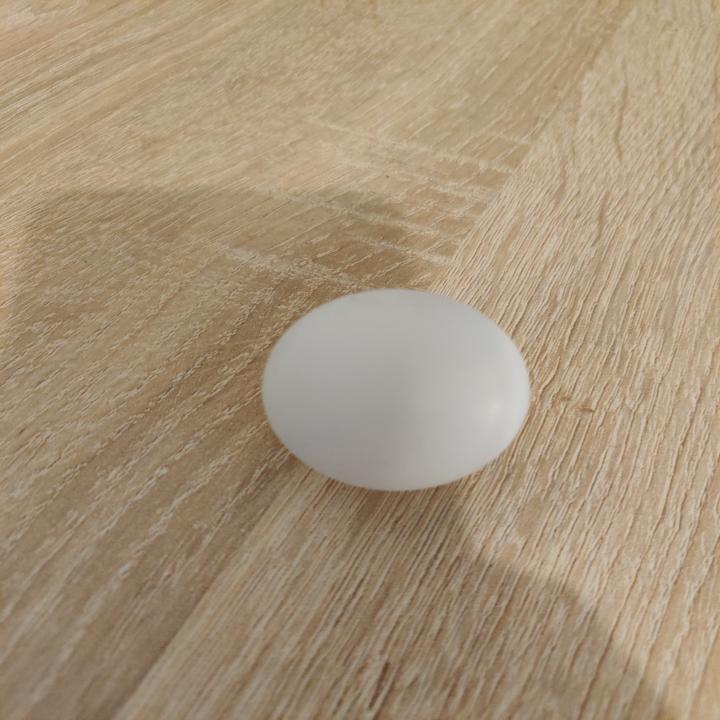white: (259, 286, 534, 494)
